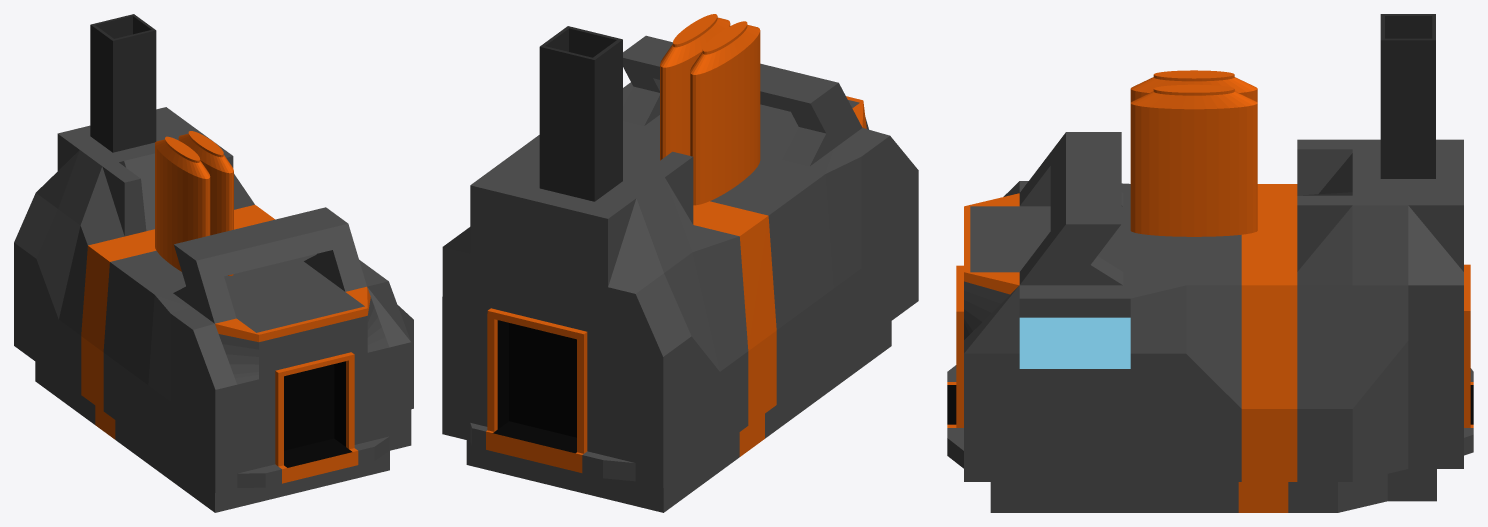
File: packagerv2.fbx
The picture shows the model from 3 angles, left to right: view 1: azimuth 30°, elevation 25°; view 2: azimuth 150°, elevation 25°; view 3: azimuth 270°, elevation 25°; orthographic projection. The views are drawn at different scales.
Parts seen in each view (by area): view 1: Cube, Cylinder, Cylinder.001; view 2: Cube, Cylinder, Cylinder.001; view 3: Cube, Cylinder.001, Cylinder.
Part boxes in pixels (left/top/right/bottom): Cube: left=14, top=14, right=413, bottom=512; Cylinder: left=155, top=136, right=210, bottom=271; Cylinder.001: left=178, top=131, right=233, bottom=275; Cube: left=442, top=26, right=918, bottom=512; Cylinder: left=690, top=21, right=760, bottom=205; Cylinder.001: left=660, top=14, right=730, bottom=160; Cube: left=947, top=14, right=1473, bottom=512; Cylinder.001: left=1130, top=84, right=1257, bottom=236; Cylinder: left=1130, top=70, right=1257, bottom=102.
Bounding box in the file's own units: 3.17 × 4.71 × 5.27.
